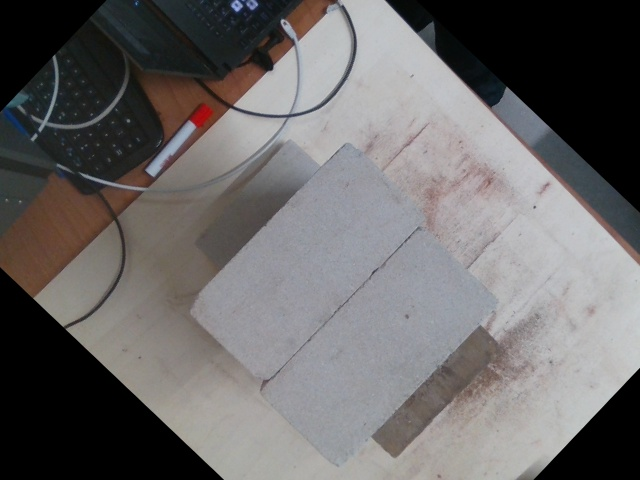brick: (187, 142, 424, 384), (259, 229, 496, 471)
